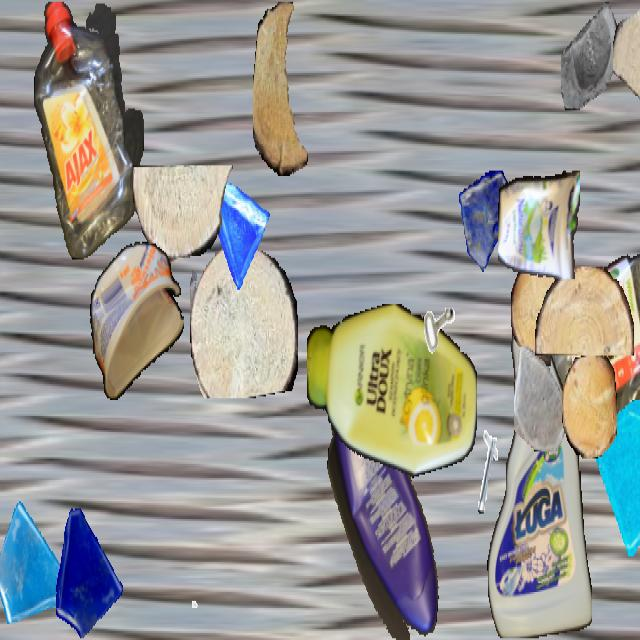glass: (47, 500, 125, 638), (0, 496, 72, 638), (200, 167, 270, 292), (595, 400, 640, 556), (561, 2, 621, 108), (514, 346, 572, 449), (459, 171, 515, 270)
metal: (403, 254, 463, 361), (463, 430, 519, 530), (167, 553, 205, 620)
plastic: (487, 301, 591, 638), (307, 304, 477, 482), (324, 386, 444, 638), (33, 2, 143, 258), (549, 213, 640, 423), (90, 242, 184, 402), (498, 164, 580, 278)
wood: (190, 242, 298, 398), (253, 2, 313, 176), (133, 166, 233, 262), (535, 266, 633, 356), (562, 356, 616, 458), (511, 260, 561, 366), (613, 2, 640, 172)
